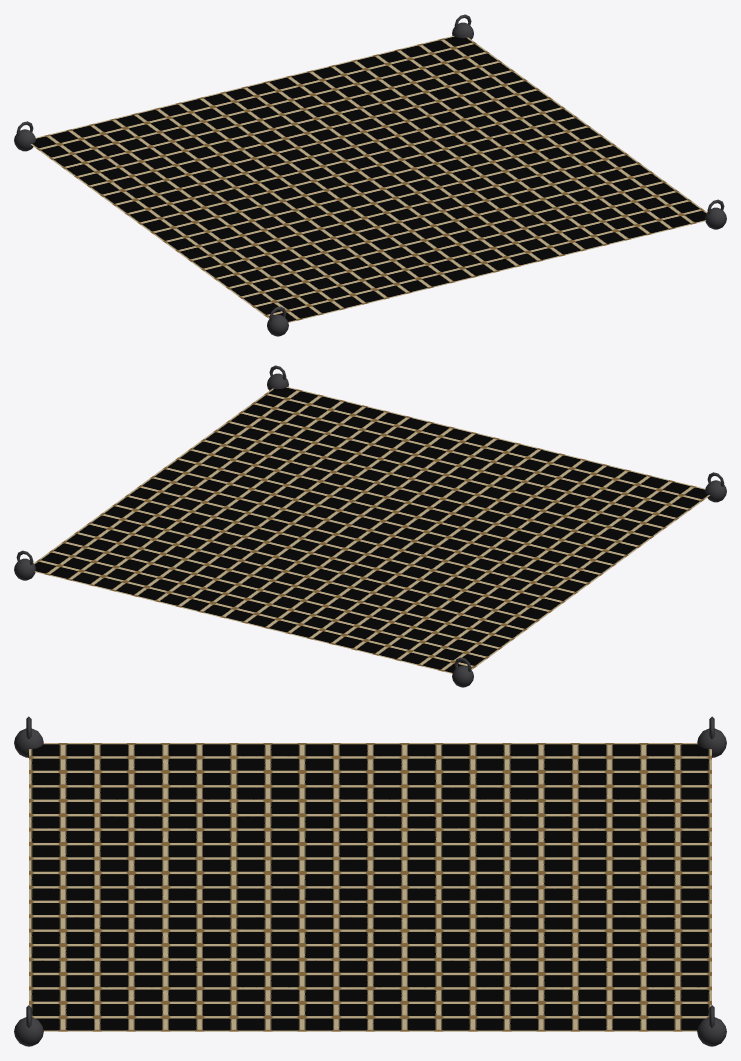
File: net.glb
3 renders of one model, top to bottom at view 1: azimuth 30°, elevation 25°; view 2: azimuth 150°, elevation 25°; view 3: azimuth 270°, elevation 25°, orthographic. The views are drawn at different scales.
Visible parts, largest first — view 1: net_mesh; view 2: net_mesh; view 3: net_mesh, net_weight_NE, net_weight_SE, net_weight_NW, net_weight_SW.
Boxes of the visible parts, x1=… form: net_mesh: x1=31, y1=36, x2=706, y2=322; net_mesh: x1=34, y1=387, x2=709, y2=673; net_mesh: x1=29, y1=743, x2=711, y2=1031; net_weight_NE: x1=697, y1=1005, x2=726, y2=1046; net_weight_SE: x1=14, y1=1005, x2=43, y2=1046; net_weight_NW: x1=697, y1=716, x2=726, y2=757; net_weight_SW: x1=14, y1=716, x2=43, y2=757.
Size of the model in its own units: 3.34 by 0.199 by 3.34.
2 materials, 1 textured.
